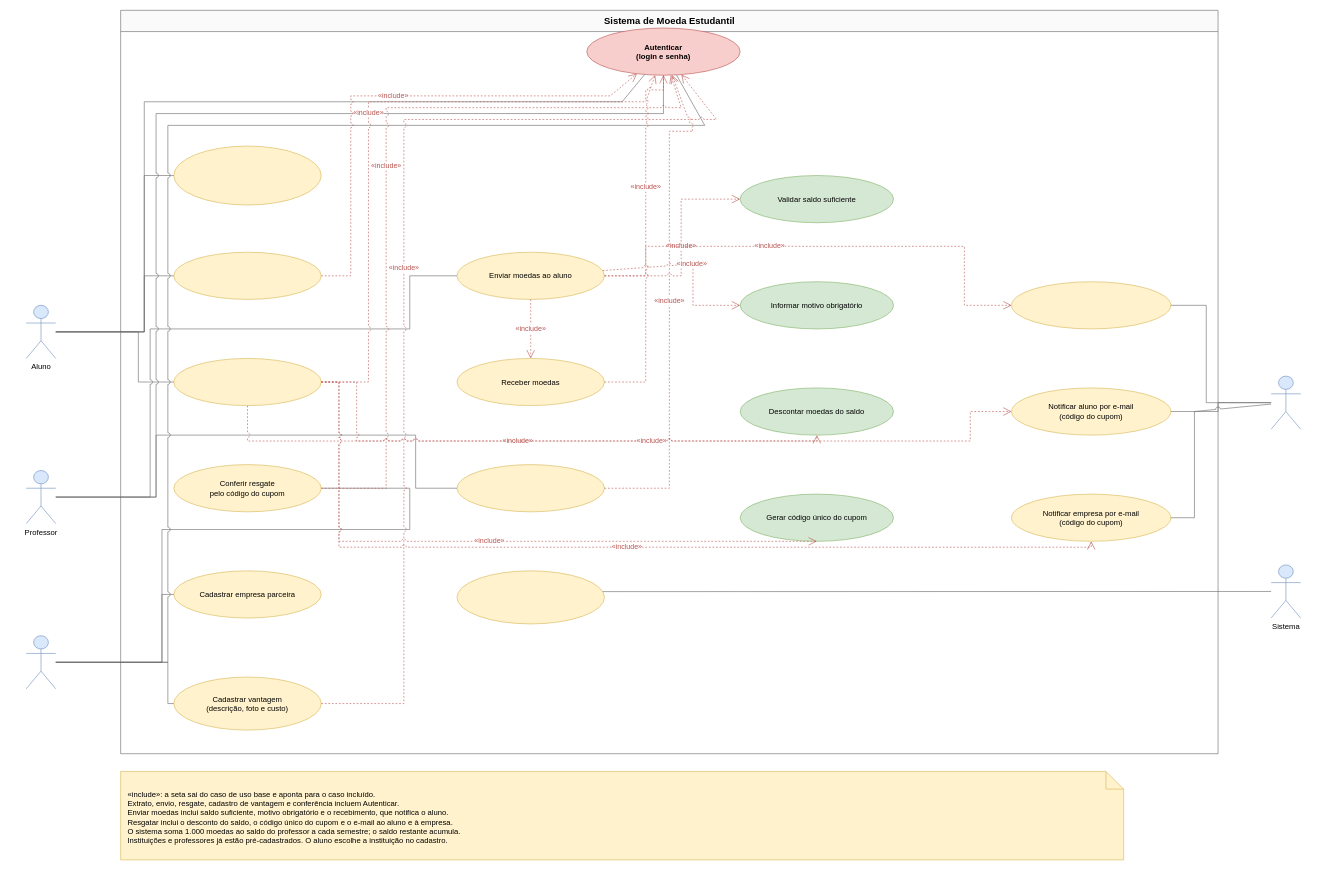
Some shapes in this 1326 by 870 pixel diagram are drawn without their labels. Here are the shapes that lost their labels. From the top down, the box of each, then its label:
(173, 145, 321, 205): Cadastrar aluno nome, e-mail, CPF, RG, endereço, instituição e curso
(173, 252, 321, 299): Consultar extrato (saldo e transações)
(1011, 281, 1171, 329): Notificar aluno por e-mail (moedas recebidas)
(173, 358, 321, 406): Resgatar vantagem
(1271, 376, 1301, 429): Serviço de E-mail
(456, 464, 604, 512): Consultar extrato (envios realizados)
(456, 570, 604, 624): Creditar 1.000 moedas semestrais (acumulável)
(26, 635, 56, 689): Empresa Parceira
